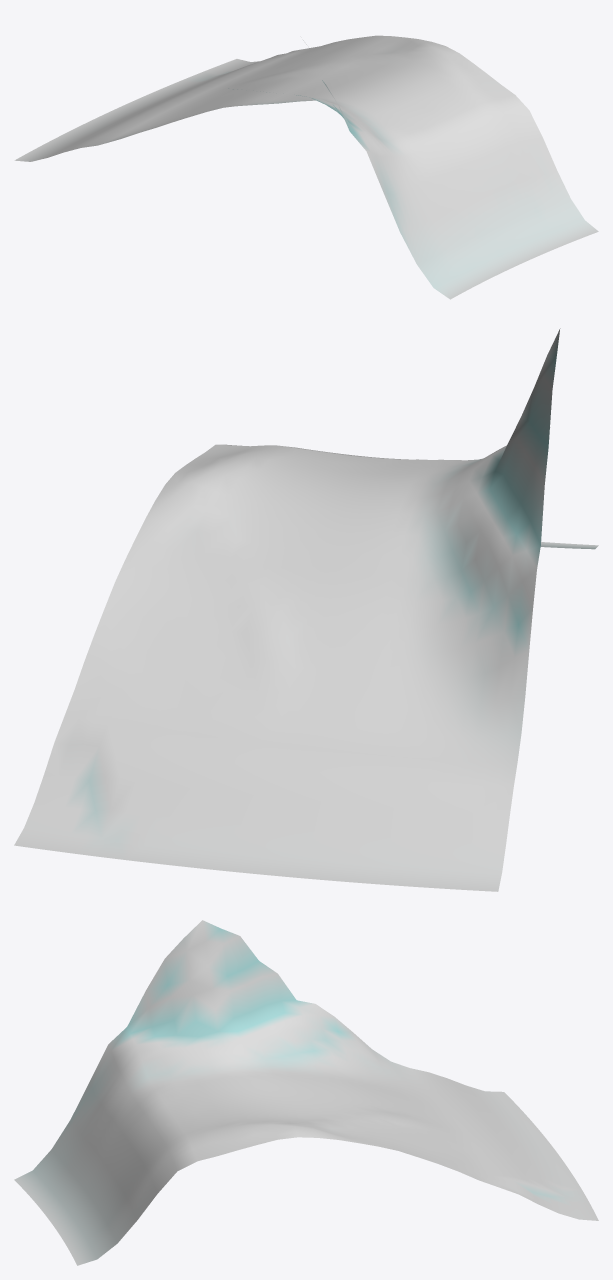
File: near_8.glb
The picture shows the model from 3 angles, top to bottom: view 1: azimuth 30°, elevation 25°; view 2: azimuth 150°, elevation 25°; view 3: azimuth 270°, elevation 25°; orthographic projection. The views are drawn at different scales.
Visible parts, largest first — view 1: Mountain; view 2: Mountain; view 3: Mountain.
Boxes of the visible parts, x1,y1,x2,y2 form: Mountain: (14, 35, 598, 299); Mountain: (14, 328, 598, 891); Mountain: (14, 920, 598, 1265).
Bounding box in the file's own units: 271 × 164 × 385.
